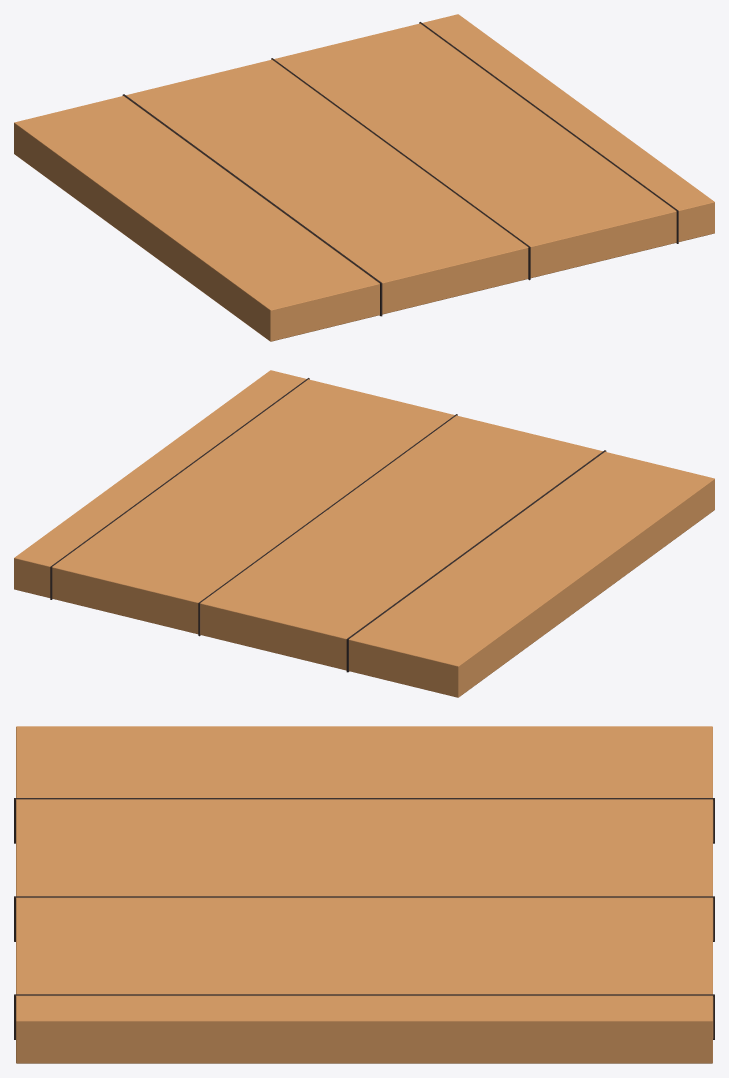
File: BuildingBlock_1_4.fbx
3 renders of one model, top to bottom at view 1: azimuth 30°, elevation 25°; view 2: azimuth 150°, elevation 25°; view 3: azimuth 270°, elevation 25°, orthographic. The views are drawn at different scales.
Visible parts, largest first — view 1: BuildingBlock_1_4; view 2: BuildingBlock_1_4; view 3: BuildingBlock_1_4.
Part boxes in pixels (x1,y1,x2,y2): BuildingBlock_1_4: [14, 14, 714, 341]; BuildingBlock_1_4: [14, 370, 714, 697]; BuildingBlock_1_4: [14, 726, 714, 1063].
Size of the model in its own units: 1000 by 71.4 by 1006.
